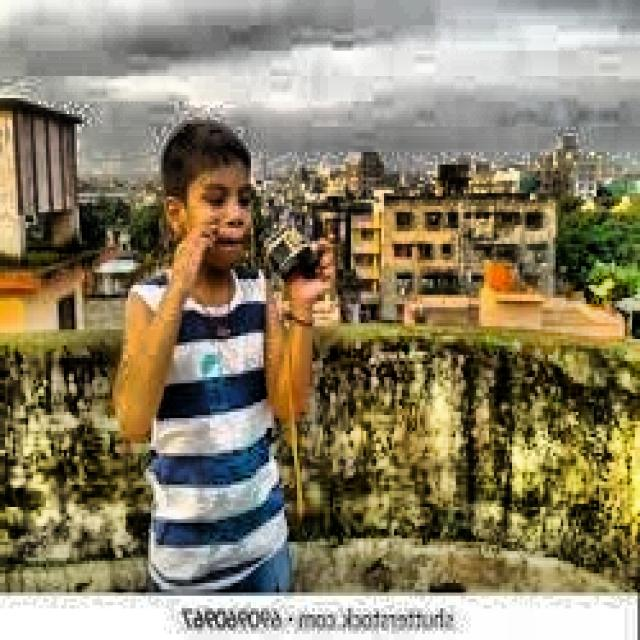Human: (95, 107, 352, 640)
